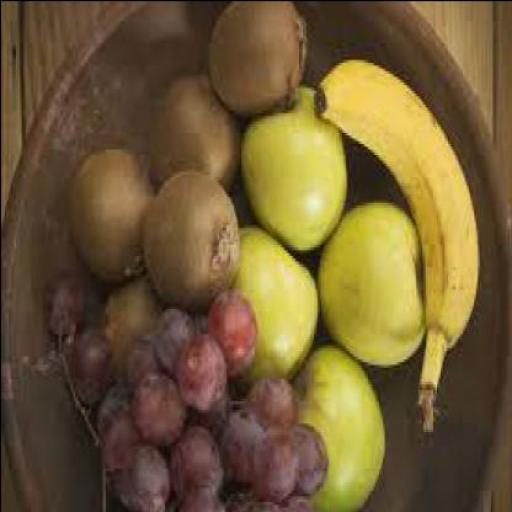biodegradable: (309, 62, 475, 436), (314, 204, 423, 370), (238, 88, 343, 258), (290, 347, 383, 511), (223, 226, 317, 386), (143, 168, 237, 313), (68, 150, 156, 288), (147, 72, 238, 196), (206, 3, 302, 118), (102, 283, 156, 391), (206, 291, 256, 383), (173, 336, 226, 414), (167, 428, 218, 504), (128, 372, 181, 445), (218, 409, 262, 492), (93, 392, 138, 472), (112, 445, 166, 509), (148, 307, 190, 383), (250, 428, 292, 504), (65, 330, 105, 406), (240, 381, 297, 428), (291, 425, 326, 501), (184, 389, 233, 439), (42, 280, 80, 338), (115, 347, 155, 394), (223, 490, 274, 511), (164, 497, 224, 511), (273, 495, 314, 511), (192, 314, 203, 336)
